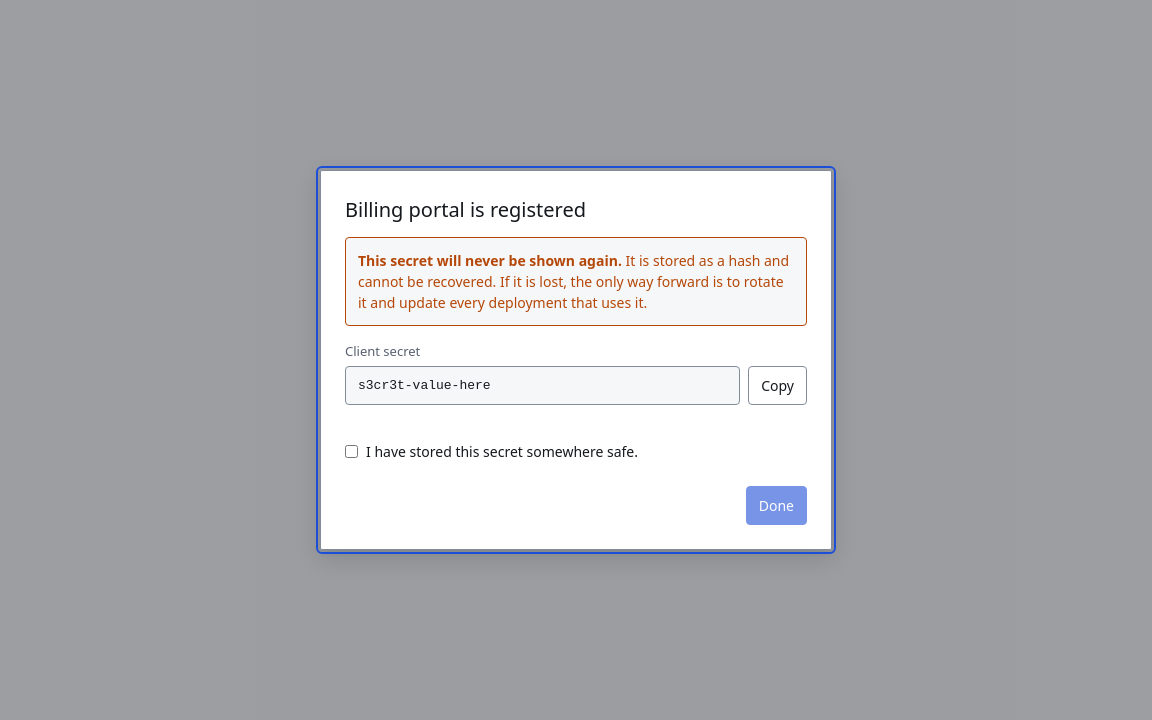
Test: ClientSecretModal › will not let the dialog be finished until the user acknowledges
Expected: the button "Done" is disabled, [746,486,807,525]
Click the checkbox at (352, 451), box [345,445,358,458]
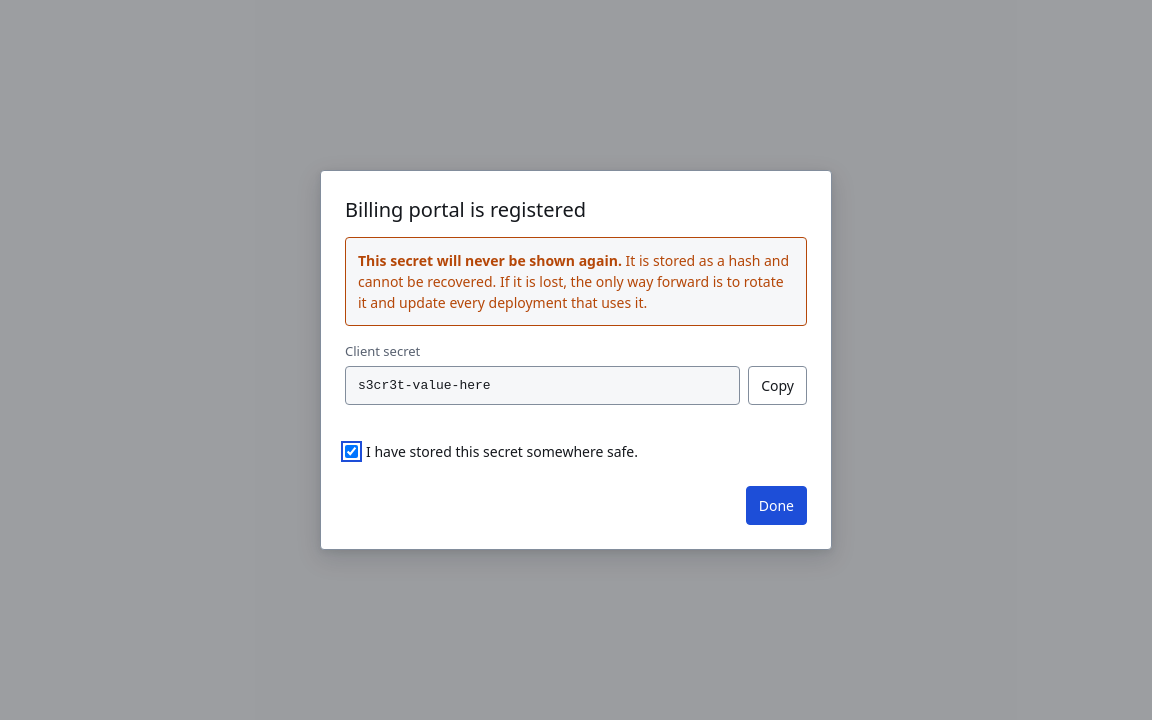
Expected: the button "Done" is enabled, [746,486,807,525]
